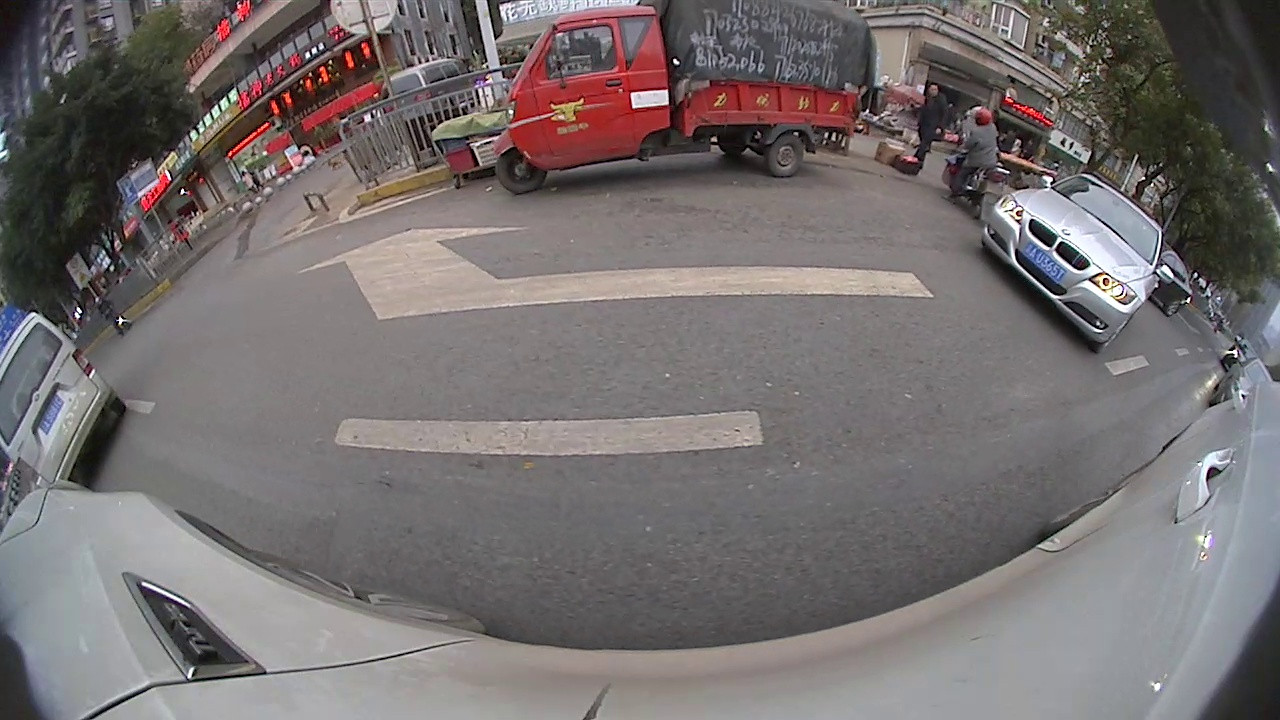car: (976, 168, 1177, 358), (2, 306, 131, 491), (1207, 355, 1273, 423), (1148, 244, 1200, 321)
front: (492, 149, 551, 193)
person: (919, 75, 949, 172)
rear: (764, 129, 806, 177)
rider: (494, 4, 878, 201), (944, 102, 1012, 215)
